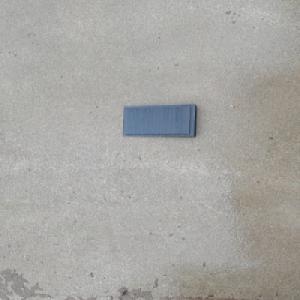PlasticPart: (121, 103, 199, 138)
